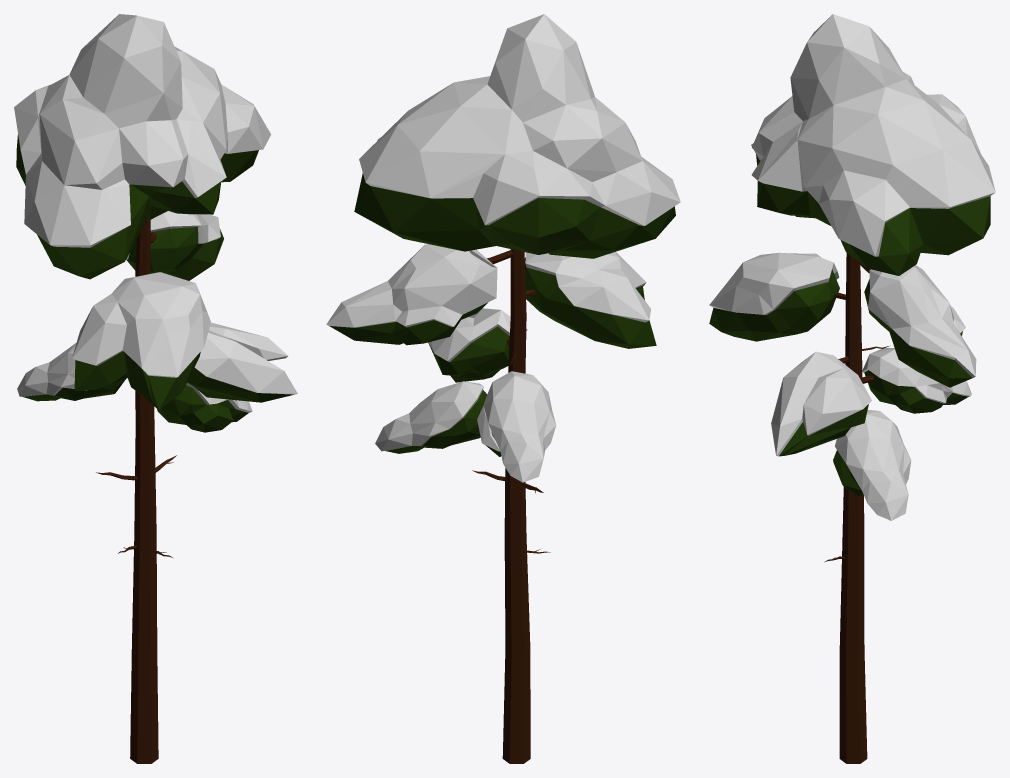
Rendered from tree_medium.fbx.
3 views of the same model, side by side, from view 1: azimuth 30°, elevation 25°; view 2: azimuth 150°, elevation 25°; view 3: azimuth 270°, elevation 25° (orthographic). The views are drawn at different scales.
Parts seen in each view (by area): view 1: puu_latvat_LOD0, puu_runko_LOD0; view 2: puu_latvat_LOD0, puu_runko_LOD0; view 3: puu_latvat_LOD0, puu_runko_LOD0.
Boxes of the visible parts, x1,y1,x2,y2 form: puu_latvat_LOD0: (14, 14, 297, 432); puu_runko_LOD0: (96, 220, 176, 763); puu_latvat_LOD0: (326, 14, 680, 482); puu_runko_LOD0: (472, 249, 550, 763); puu_latvat_LOD0: (709, 14, 995, 520); puu_runko_LOD0: (824, 253, 890, 763).
Size of what is drawn, in the model's own units: 930 by 2497 by 880.
